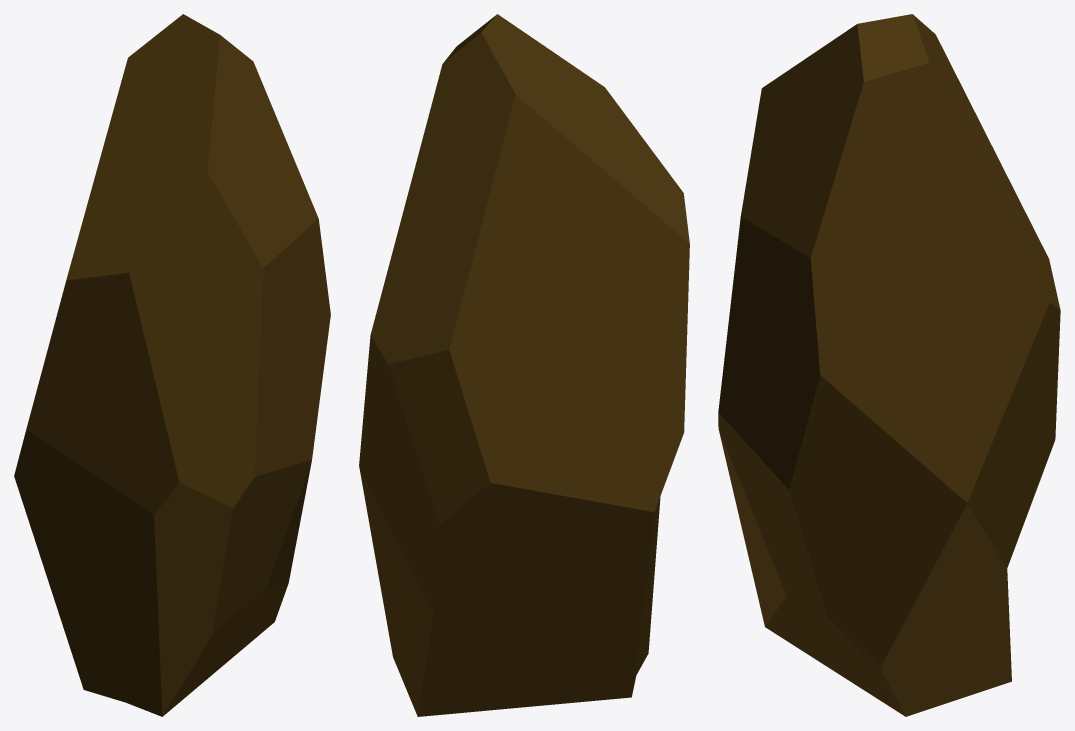
The model's file is Earth_Tower.fbx.
3 views of the same model, side by side, from view 1: azimuth 30°, elevation 25°; view 2: azimuth 150°, elevation 25°; view 3: azimuth 270°, elevation 25° (orthographic). The views are drawn at different scales.
Visible parts, largest first — view 1: Tower; view 2: Tower; view 3: Tower.
Part boxes in pixels (bbox=[...]): Tower: bbox=[14, 14, 330, 716]; Tower: bbox=[359, 14, 689, 716]; Tower: bbox=[718, 14, 1060, 716].
Size of the model in its own units: 262 by 264 by 562.
